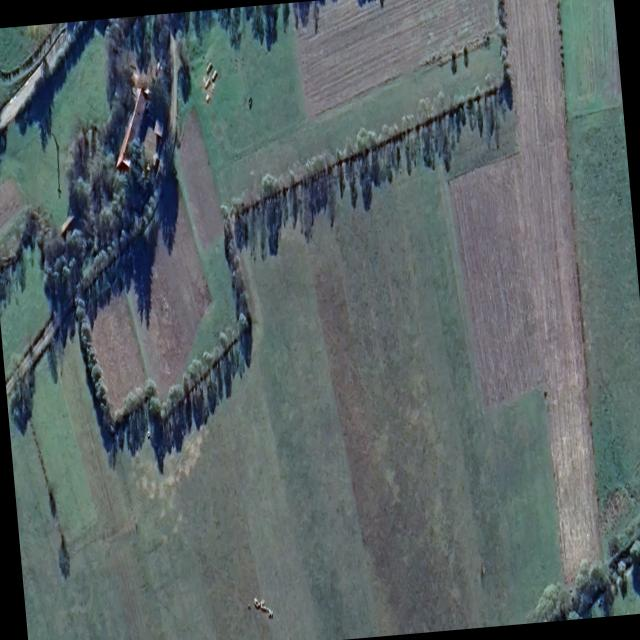bare-soil: (450, 0, 602, 576), (89, 59, 236, 413), (298, 0, 495, 111), (0, 176, 25, 227)
building: (5, 29, 178, 402), (0, 20, 96, 127)
grass: (8, 174, 562, 640), (176, 25, 503, 210), (558, 0, 640, 539), (0, 50, 106, 228), (0, 240, 50, 380), (0, 21, 77, 110), (606, 598, 640, 615)
tree: (228, 75, 514, 252), (72, 199, 259, 447), (95, 0, 384, 155), (0, 129, 149, 291), (71, 168, 180, 326), (14, 18, 112, 152), (555, 517, 640, 620), (9, 370, 34, 433), (493, 0, 511, 79), (446, 45, 470, 71), (56, 534, 69, 577), (47, 481, 54, 516)
